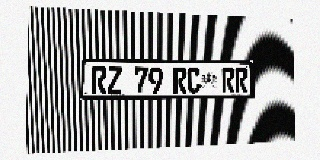7: (134, 67, 148, 94)
9: (149, 67, 163, 94)
C: (187, 67, 200, 93)
R: (91, 66, 107, 94), (173, 67, 187, 93), (222, 68, 235, 93), (235, 68, 248, 93)
Z: (107, 66, 122, 94)
